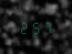five: (30, 20, 40, 33)
seven: (41, 19, 51, 33)
two: (18, 20, 28, 34)
